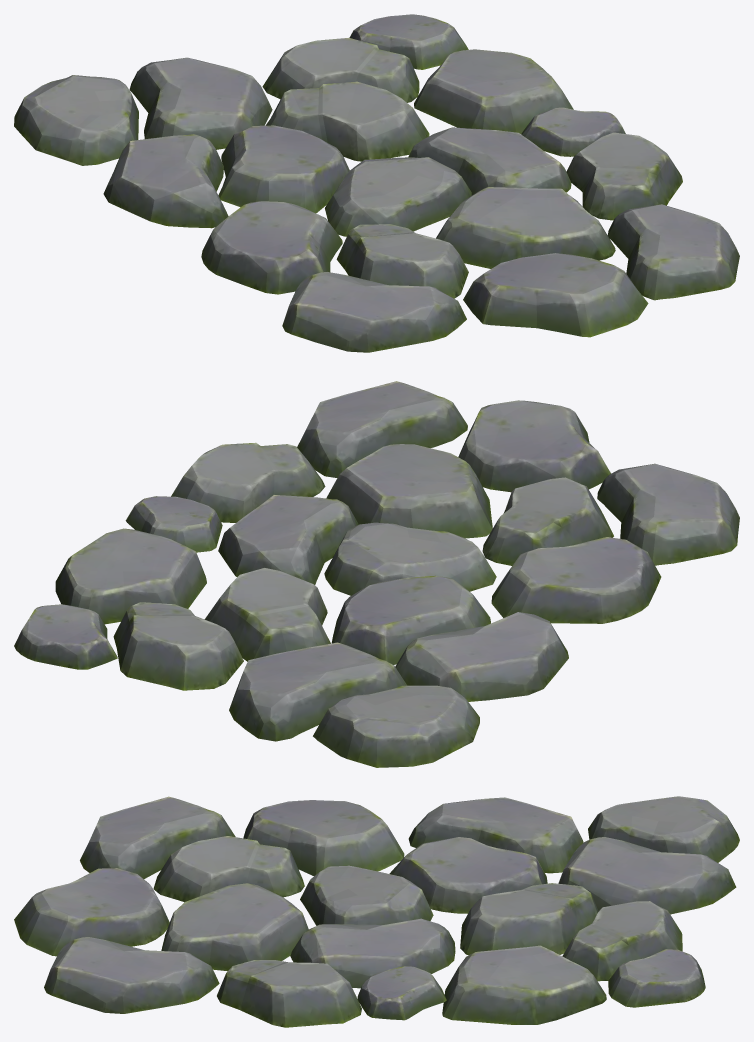
The model's file is RockPath_Round_Thin.glb.
3 renders of one model, top to bottom at view 1: azimuth 30°, elevation 25°; view 2: azimuth 150°, elevation 25°; view 3: azimuth 270°, elevation 25°, orthographic. The views are drawn at different scales.
Parts seen in each view (by area): view 1: RockPath_Round_Thin; view 2: RockPath_Round_Thin; view 3: RockPath_Round_Thin.
Boxes of the visible parts, x1,y1,x2,y2 form: RockPath_Round_Thin: (14, 14, 739, 352); RockPath_Round_Thin: (14, 381, 739, 767); RockPath_Round_Thin: (14, 796, 739, 1027).
Bounding box in the file's own units: 1.46 × 0.1104 × 2.09.
Materials: 1 (1 with a texture image).
